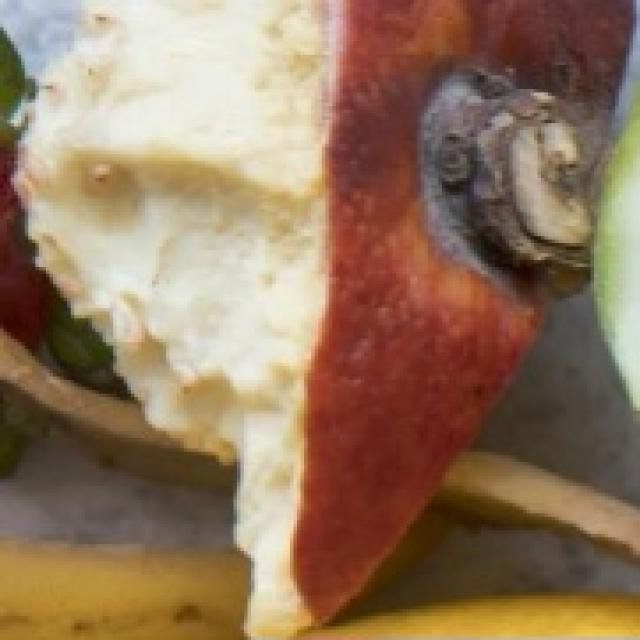food waste: (26, 0, 640, 604)
